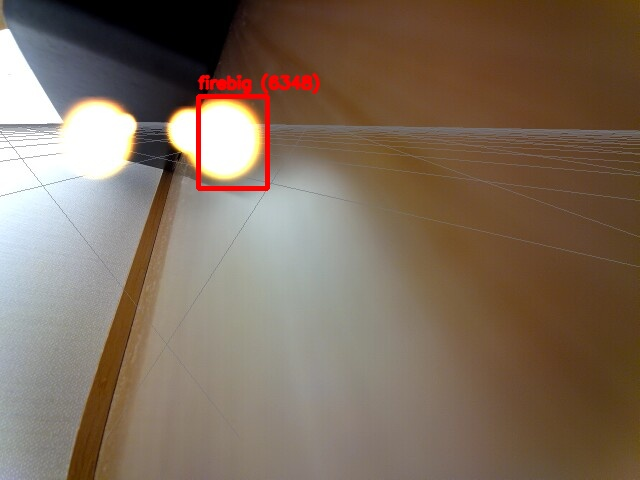firebig: (198, 96, 267, 188)
